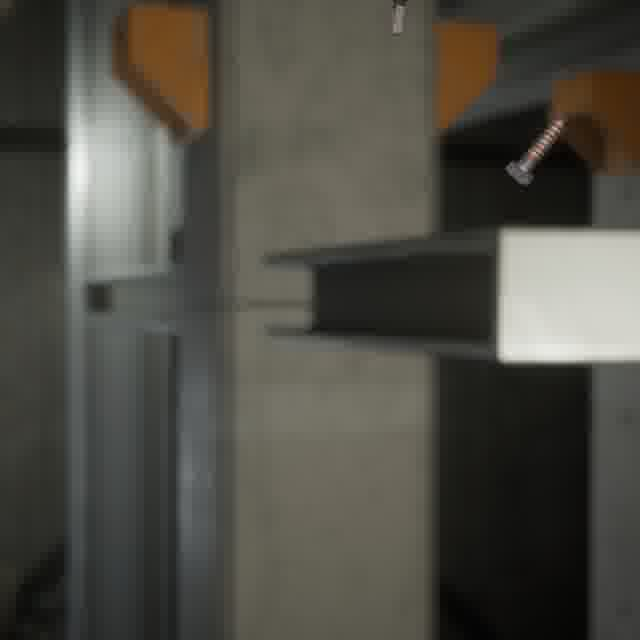bolt: (500, 113, 569, 190), (385, 0, 412, 39)
